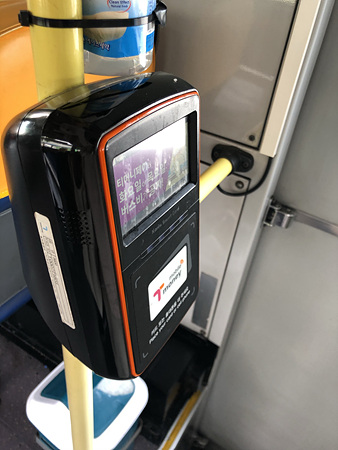terminal: (10, 73, 202, 370)
